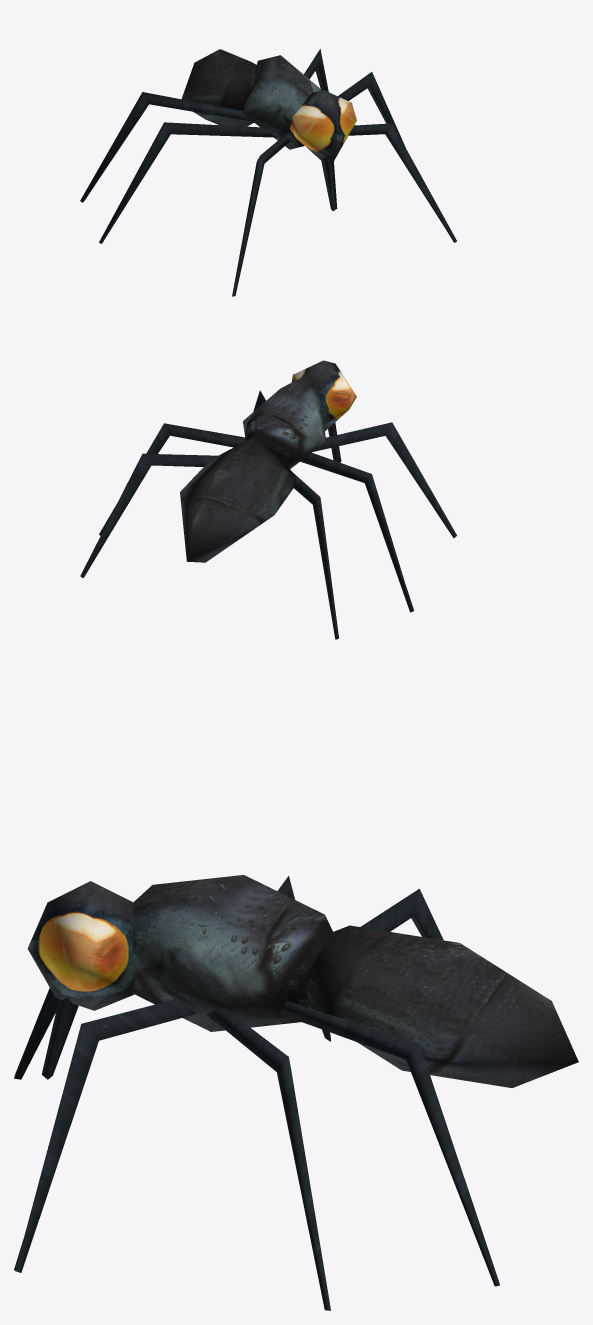
The model's file is Particle Fly Mdl.fbx.
3 renders of one model, top to bottom at view 1: azimuth 30°, elevation 25°; view 2: azimuth 150°, elevation 25°; view 3: azimuth 270°, elevation 25°, orthographic. The views are drawn at different scales.
Visible parts, largest first — view 1: ParticleFlyMesh; view 2: ParticleFlyMesh; view 3: ParticleFlyMesh.
Part boxes in pixels (left/top/right/bottom): ParticleFlyMesh: left=80, top=49, right=456, bottom=296; ParticleFlyMesh: left=80, top=360, right=456, bottom=639; ParticleFlyMesh: left=14, top=875, right=578, bottom=1310.
Size of the model in its own units: 5.5 by 1.58 by 2.66.
